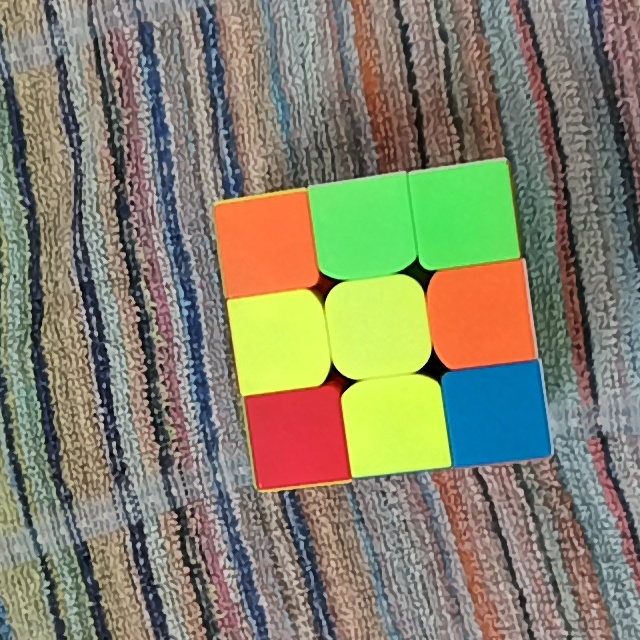tile: (441, 274, 527, 357), (426, 173, 508, 256), (339, 288, 418, 367), (357, 387, 437, 465), (456, 376, 536, 454), (325, 188, 404, 266), (241, 301, 320, 379), (258, 400, 336, 479), (227, 204, 305, 282)
